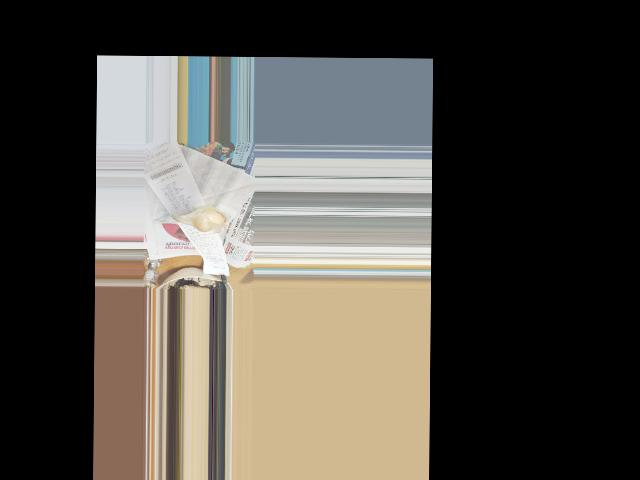onion: (186, 206, 225, 230)
